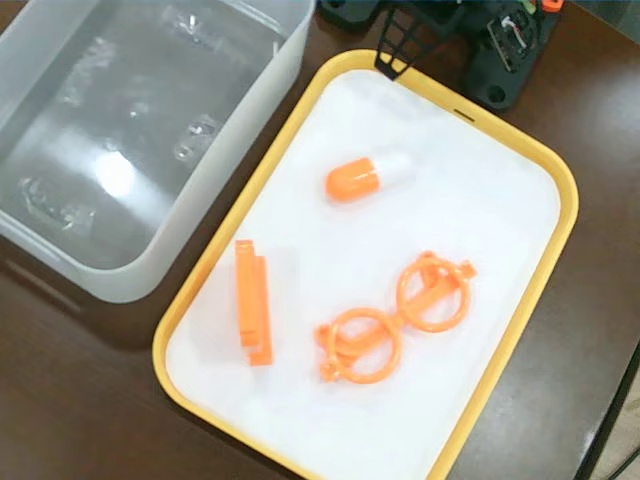pill: (325, 148, 416, 203)
